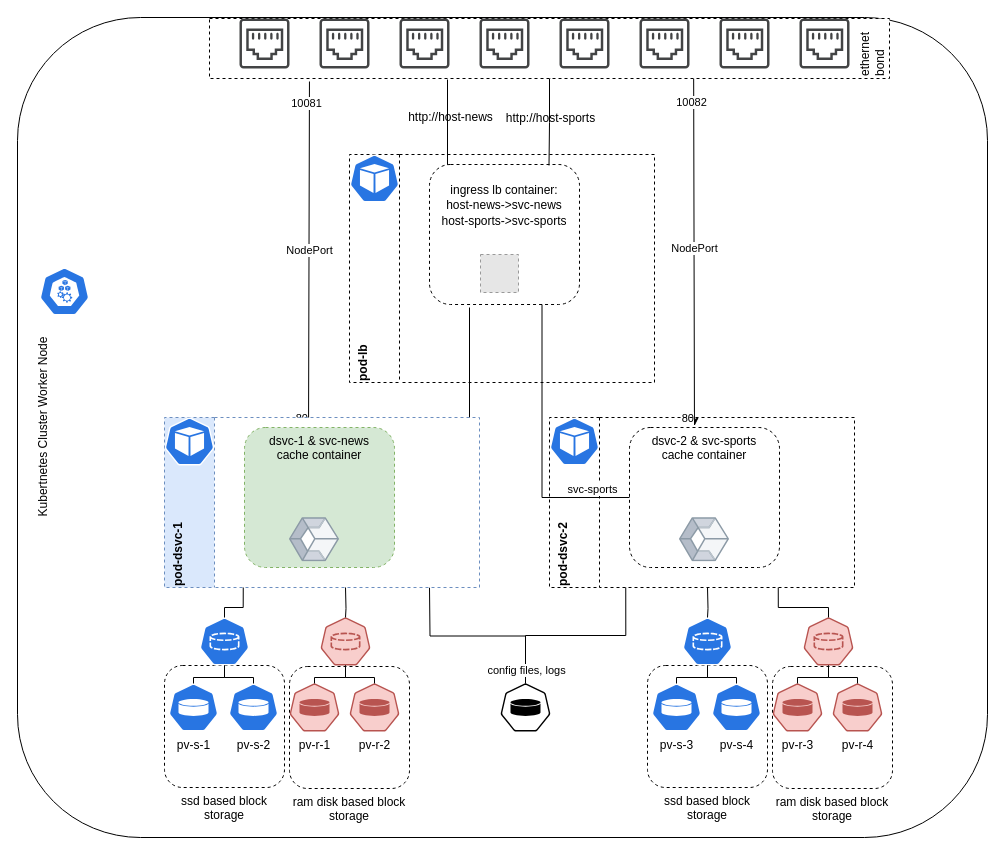
Some shapes in this 1005 by 855 pixel diagram are drawn without their labels. Grey dashed boxes stand in for pictures. Here are the shapes that lost their labels. From the top down, the centre of each, then its label:
At [224,641]: "pvc-1-ssd".
At [345,641]: "pvc-1-ram".
At [707,641]: "pvc-2-ssd".
At [828,641]: "pvc-2-ram".
At [525,707]: "volume (hostpath/local)".
